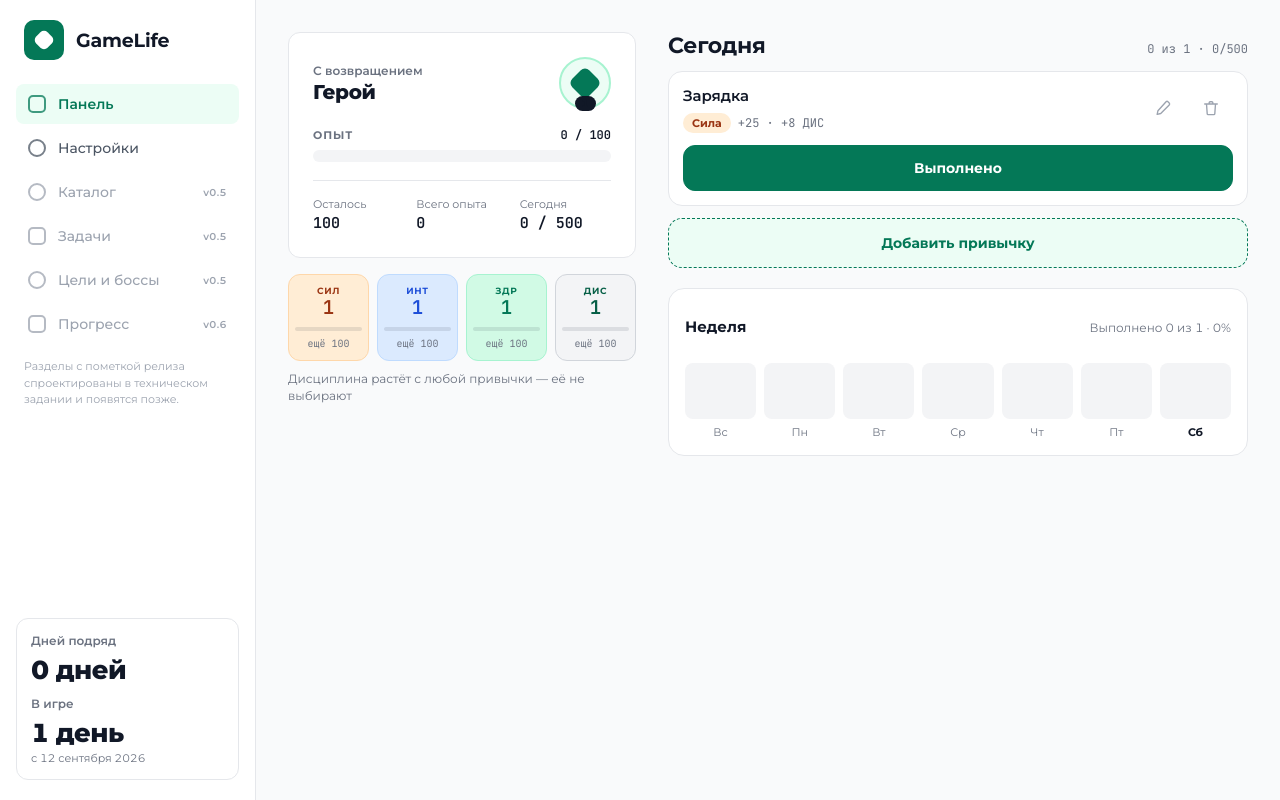
Scenario: живые действия › отмена возвращает экран и хранилище назад
The image size is (1280, 800).
What coordinates should you click on to do the following:
click the button with aria-label "Отметить выполненной"
I would click on:
 (958, 168)
Its box is [683, 145, 1233, 191].
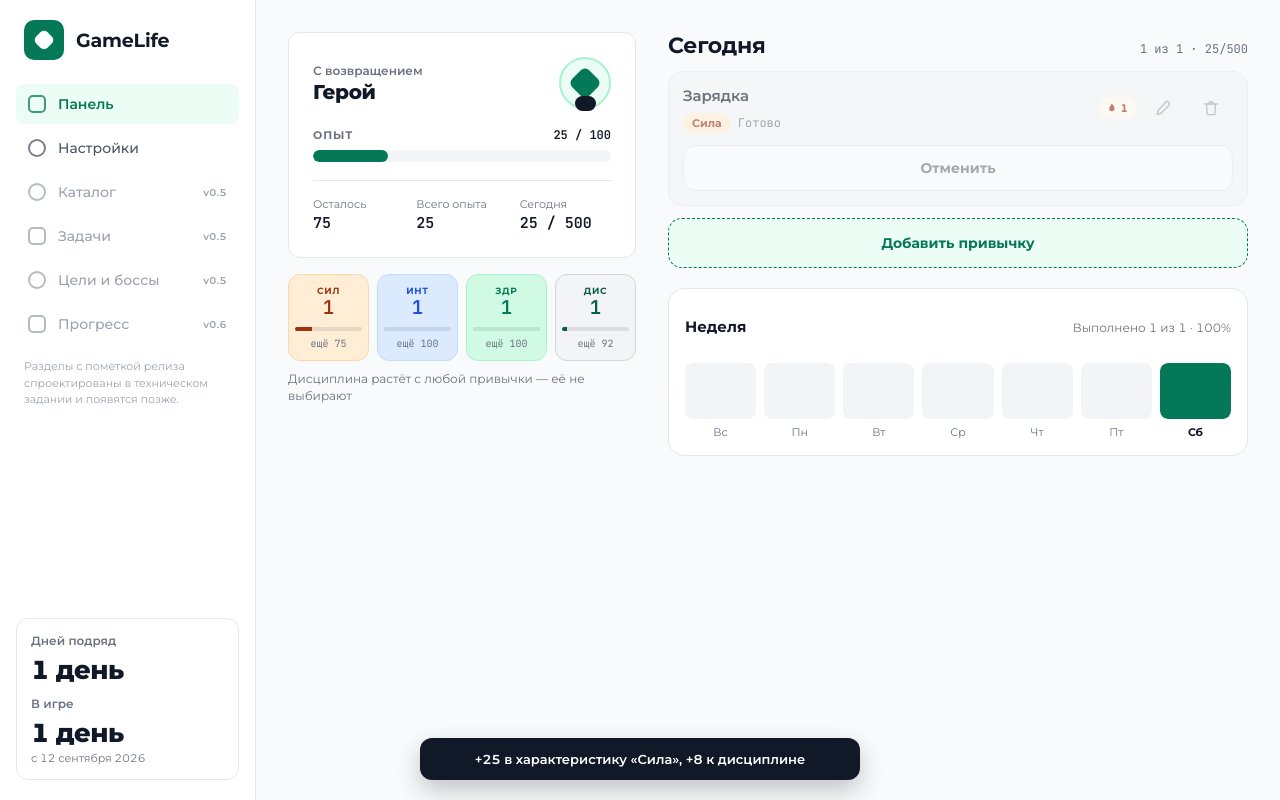
What coordinates should you click on to do the following:
click the button with aria-label "Отменить выполнение"
I would click on:
 (958, 168)
Its box is [683, 145, 1233, 191].
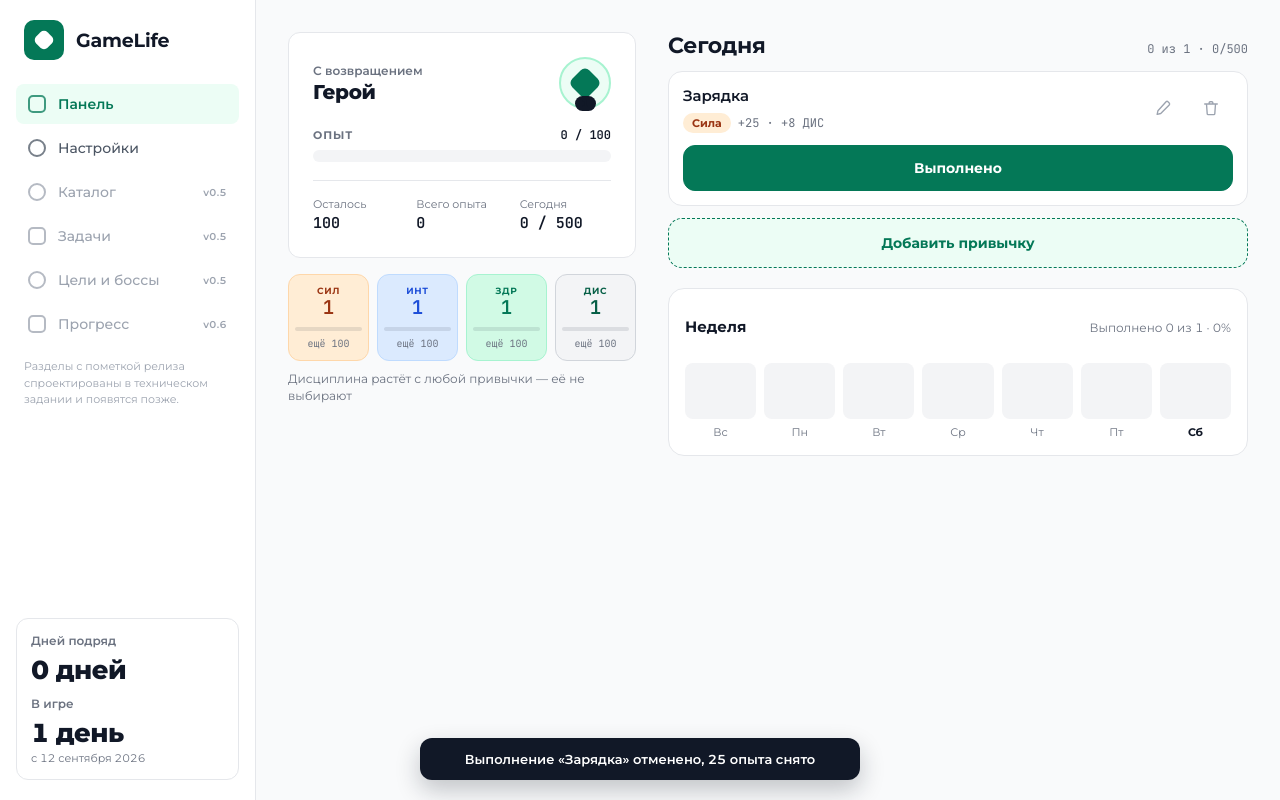
expect the button with aria-label "Отметить выполненной" is shown: met, box [683, 145, 1233, 191]
